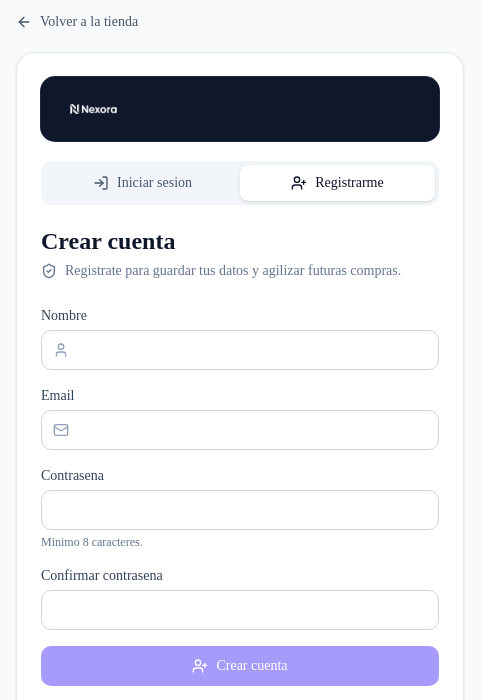
Test case: LoginForm › shows demo verification link after register when email backend falls back to demo-link
In the field labelled "Nombre": (240, 350) left=41, top=330, right=439, bottom=370, type "Ada Lovelace"
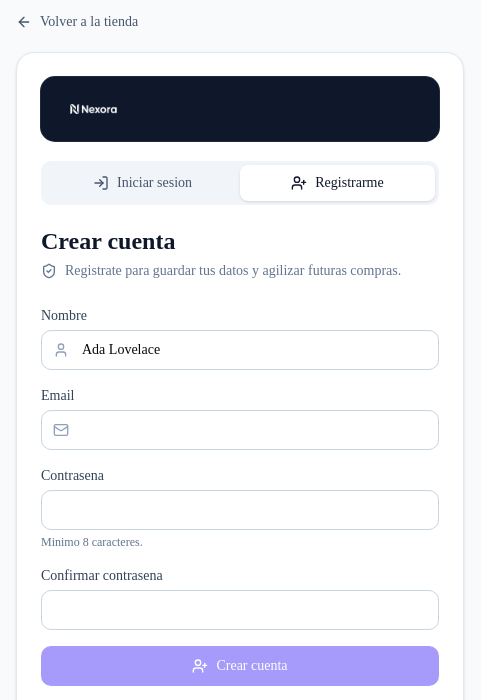
In the field labelled "Email": (240, 430) left=41, top=410, right=439, bottom=450, type "ada@example.com"
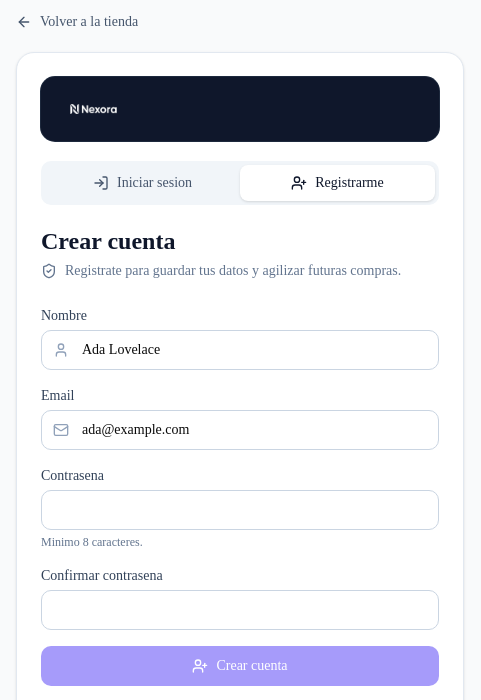
In the password field labelled "Contrasena": (240, 510) left=41, top=490, right=439, bottom=530, type "secret123"
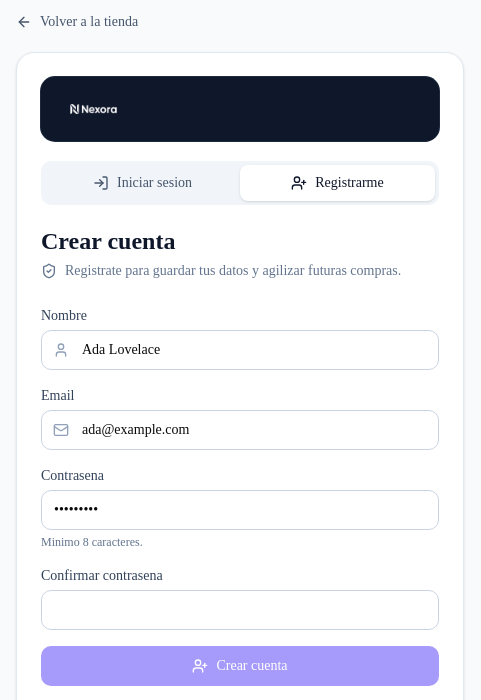
In the password field labelled "Confirmar contrasena": (240, 610) left=41, top=590, right=439, bottom=630, type "secret123"
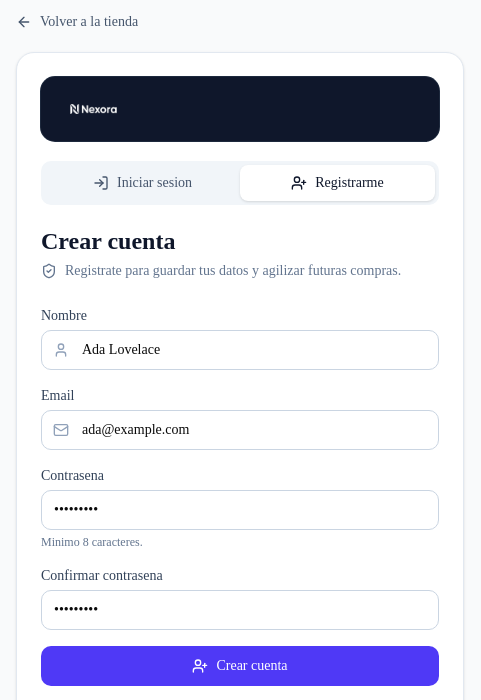
Submit the form "Crear cuenta", box left=41, top=306, right=439, bottom=686
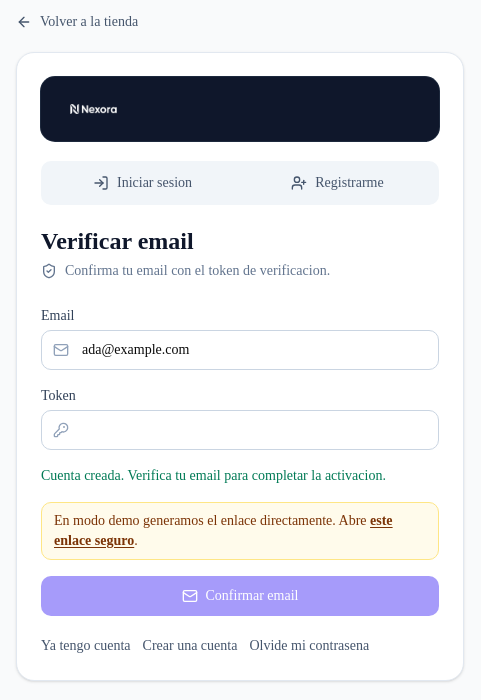
Result: the text "Verifica tu email para completar la activacion" is shown at left=41, top=468, right=386, bottom=483
